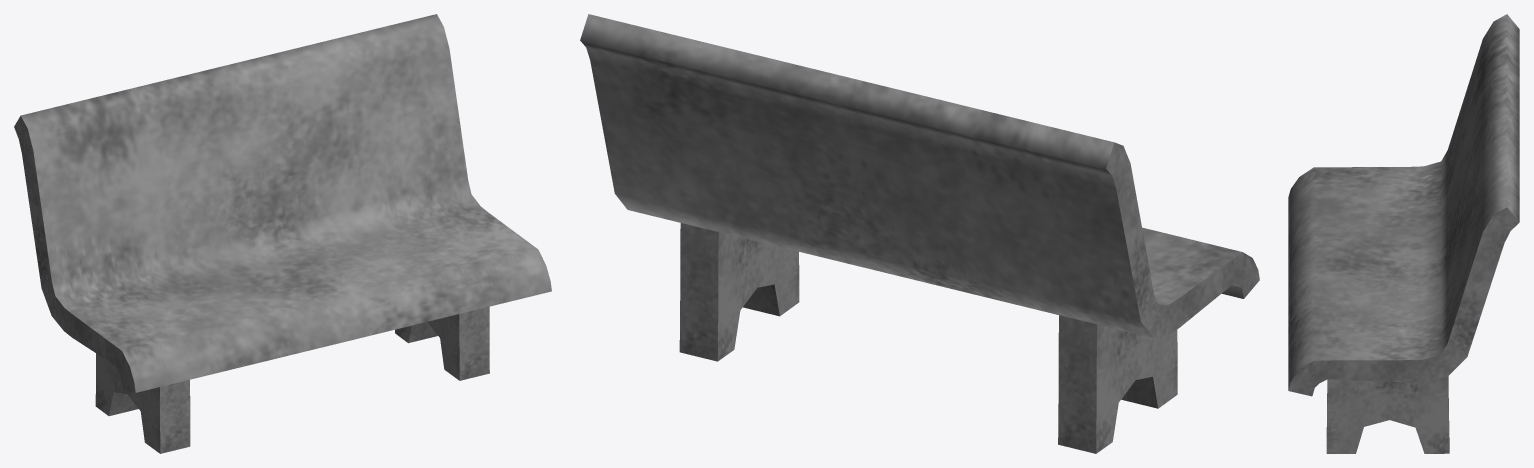
The model's file is bancoConcreto.fbx.
3 renders of one model, left to right at view 1: azimuth 30°, elevation 25°; view 2: azimuth 150°, elevation 25°; view 3: azimuth 270°, elevation 25°, orthographic. The views are drawn at different scales.
Visible parts, largest first — view 1: BancoConcrerto; view 2: BancoConcrerto; view 3: BancoConcrerto.
Part boxes in pixels (<box>): BancoConcrerto: <box>14,14,551,453</box>; BancoConcrerto: <box>580,14,1259,453</box>; BancoConcrerto: <box>1288,14,1519,453</box>.
Bounding box in the file's own units: 179 × 115 × 90.56.
